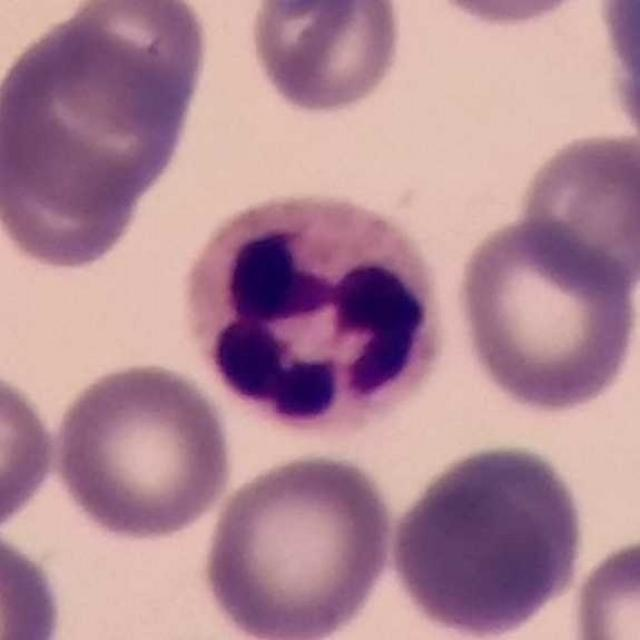Neutrophil: (177, 168, 457, 434)
RBC: (0, 12, 197, 225), (384, 437, 590, 639), (198, 447, 399, 640), (451, 213, 640, 416), (49, 357, 236, 543), (0, 110, 144, 276), (512, 128, 640, 296), (53, 0, 212, 132), (242, 0, 408, 120), (0, 363, 60, 535), (0, 524, 68, 640), (567, 532, 640, 640), (592, 0, 640, 158), (416, 0, 608, 30)
